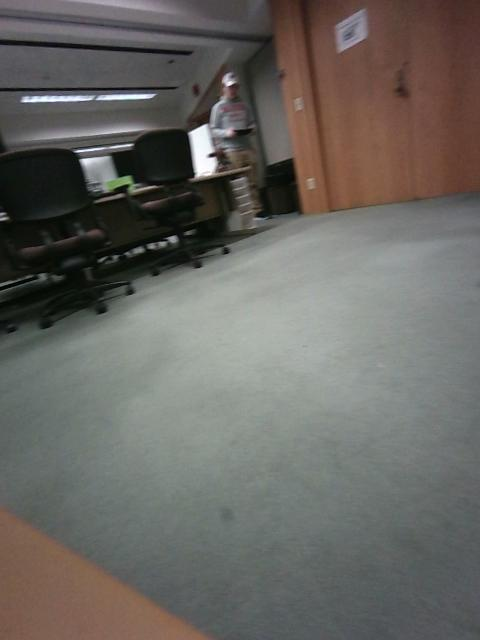block: (188, 349, 253, 435)
